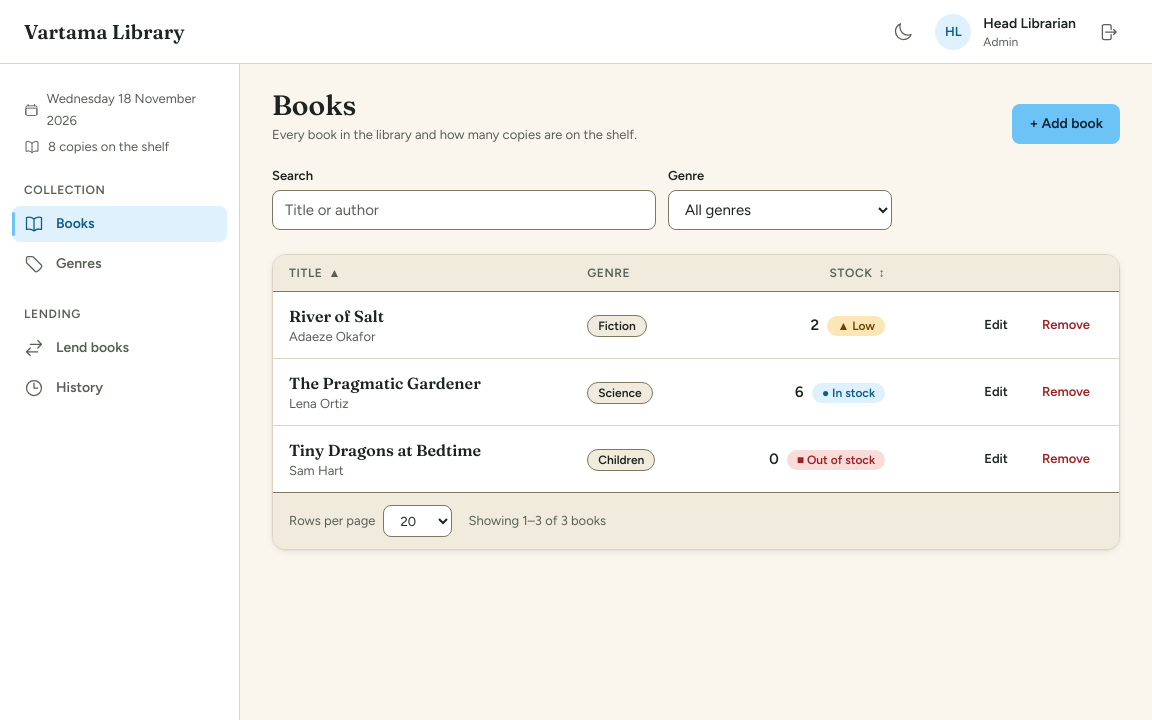
Test case: Add book (admin) › shows other errors at the top of the form
Expected: the text "River of Salt" is shown, 289,306 -> 384,326
Click the button "+ Add book" at (1066, 124), box 1012,104 -> 1120,144
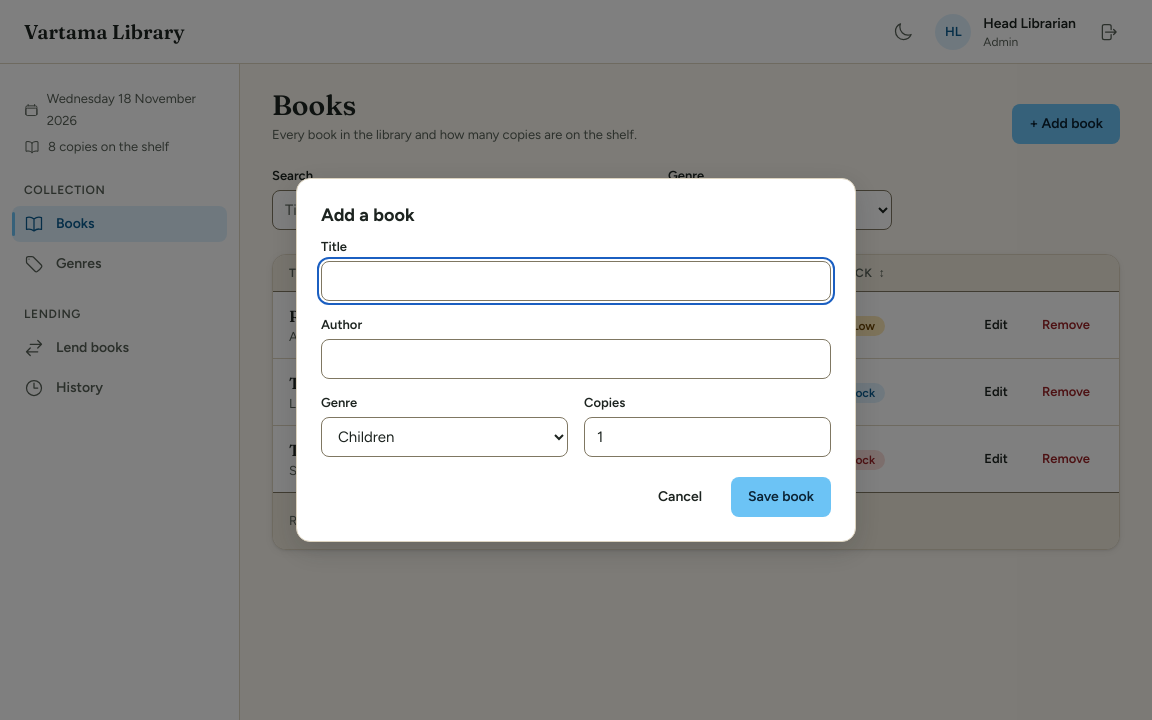
Type "New" into the field labelled "Title" at (576, 281), box 321,261 -> 831,301
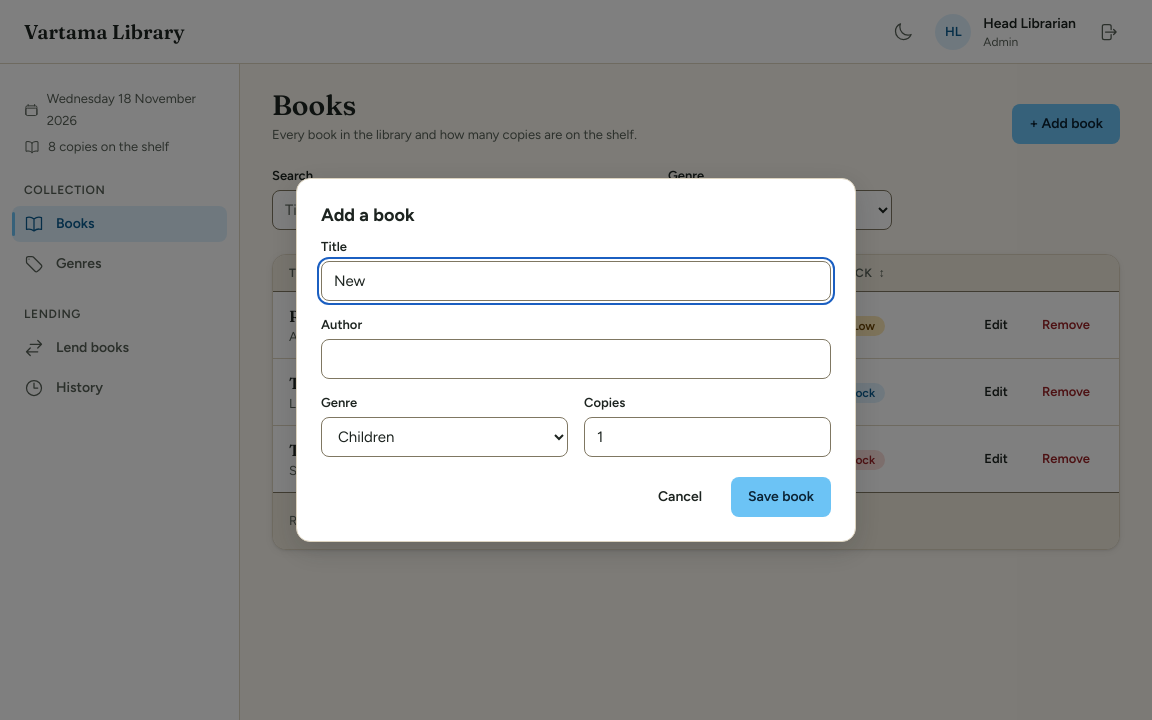
Type "Someone" into the field labelled "Author" at (576, 359), box 321,339 -> 831,379
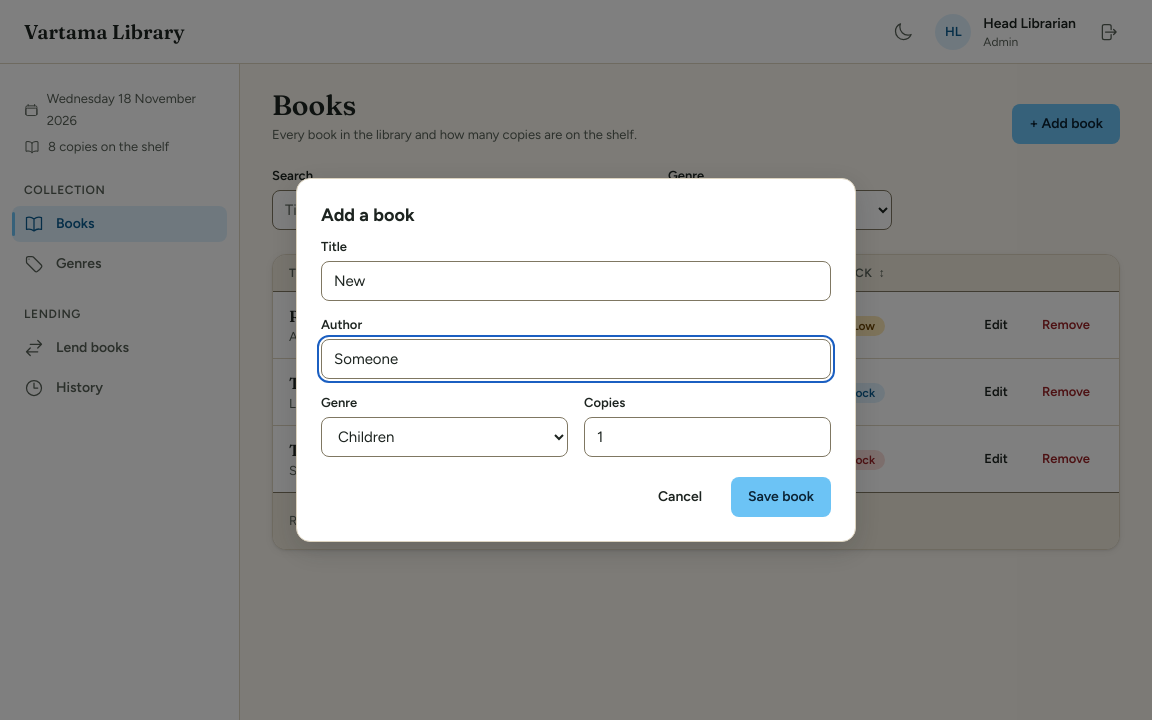
Click the button "Save book" at (781, 497), box 731,477 -> 831,517
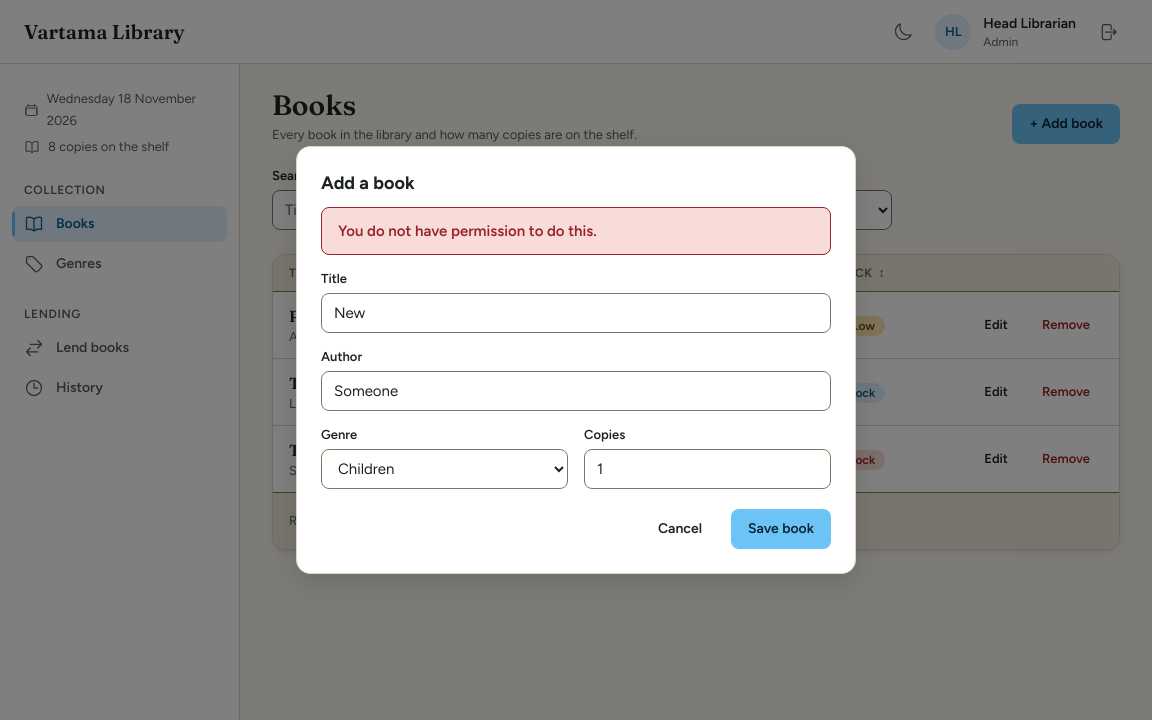
Expected: the message reads "You do not have permission to do this.", 338,222 -> 597,240
